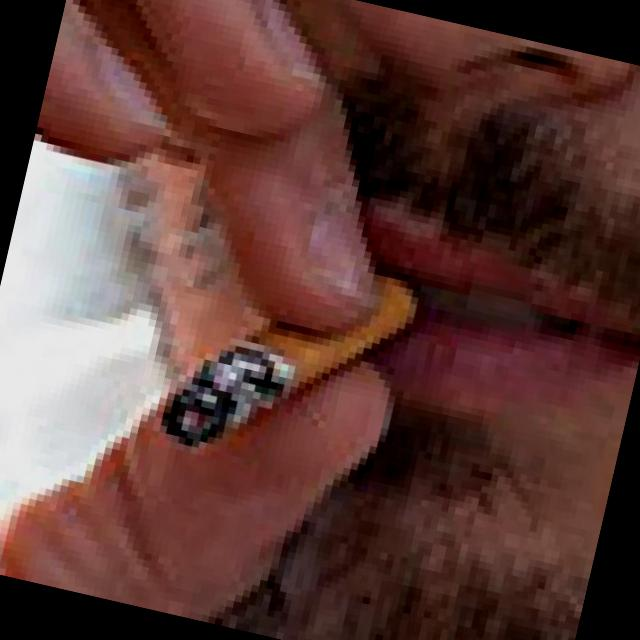smoke: (133, 216, 424, 501)
